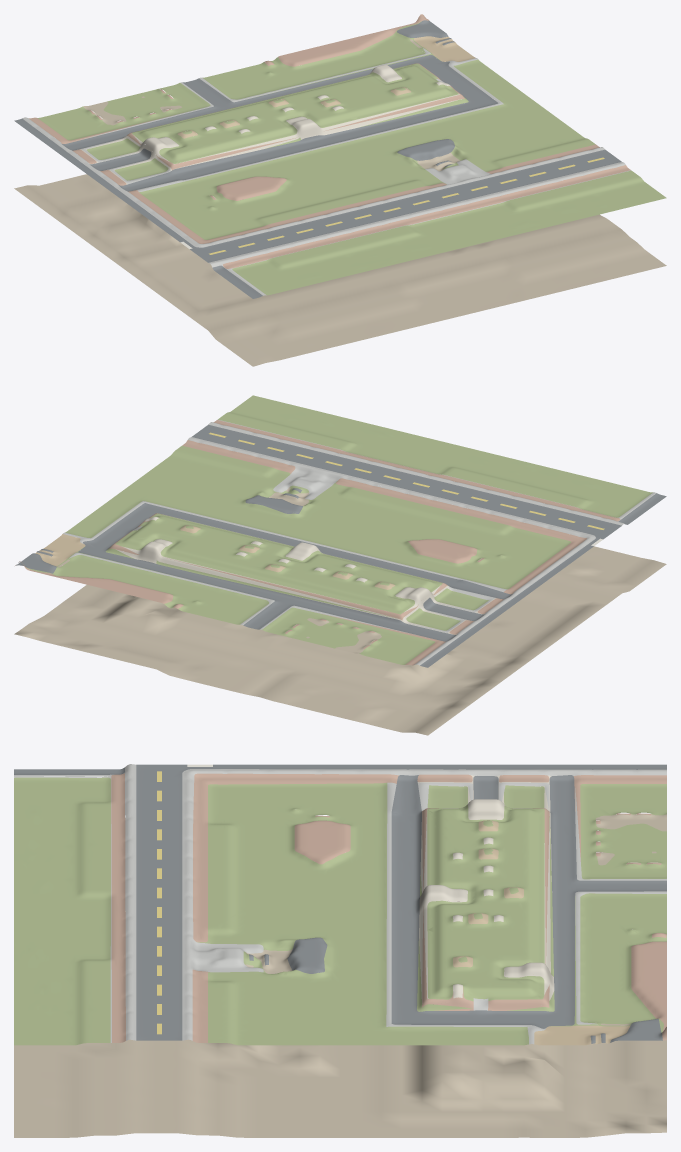
3 renders of one model, top to bottom at view 1: azimuth 30°, elevation 25°; view 2: azimuth 150°, elevation 25°; view 3: azimuth 270°, elevation 25°, orthographic. The views are drawn at different scales.
Parts seen in each view (by area): view 1: s_-5_-5__grass, s_-5_-5__soil, s_-5_-5__asphalt, s_-5_-5__brick_paving, s_-5_-5__stone_paving, s_-5_-5__paving, s_-5_-5__timber_deck, s_-5_-5__yellow_marking; view 2: s_-5_-5__grass, s_-5_-5__soil, s_-5_-5__asphalt, s_-5_-5__brick_paving, s_-5_-5__stone_paving, s_-5_-5__paving, s_-5_-5__timber_deck, s_-5_-5__yellow_marking; view 3: s_-5_-5__grass, s_-5_-5__soil, s_-5_-5__asphalt, s_-5_-5__brick_paving, s_-5_-5__stone_paving, s_-5_-5__paving, s_-5_-5__timber_deck, s_-5_-5__yellow_marking.
Boxes of the visible parts, <box> form: s_-5_-5__grass: <box>38,21,666,295</box>; s_-5_-5__soil: <box>14,39,666,366</box>; s_-5_-5__asphalt: <box>14,20,621,298</box>; s_-5_-5__brick_paving: <box>29,14,630,268</box>; s_-5_-5__stone_paving: <box>22,48,631,295</box>; s_-5_-5__paving: <box>77,64,461,184</box>; s_-5_-5__timber_deck: <box>177,36,475,138</box>; s_-5_-5__yellow_marking: <box>209,157,604,254</box>; s_-5_-5__grass: <box>26,395,652,664</box>; s_-5_-5__soil: <box>14,487,666,735</box>; s_-5_-5__asphalt: <box>16,424,666,667</box>; s_-5_-5__brick_paving: <box>15,420,620,665</box>; s_-5_-5__stone_paving: <box>63,419,656,665</box>; s_-5_-5__paving: <box>116,514,496,634</box>; s_-5_-5__timber_deck: <box>35,525,395,589</box>; s_-5_-5__yellow_marking: <box>209,432,604,529</box>; s_-5_-5__grass: <box>14,777,666,1045</box>; s_-5_-5__soil: <box>14,814,666,1137</box>; s_-5_-5__asphalt: <box>14,764,666,1043</box>; s_-5_-5__brick_paving: <box>111,773,666,1042</box>; s_-5_-5__stone_paving: <box>14,764,666,1044</box>; s_-5_-5__paving: <box>295,775,632,1003</box>; s_-5_-5__timber_deck: <box>453,820,630,1045</box>; s_-5_-5__yellow_marking: <box>157,771,161,1034</box>.
Size of the model in its own units: 128 by 25.01 by 128.
